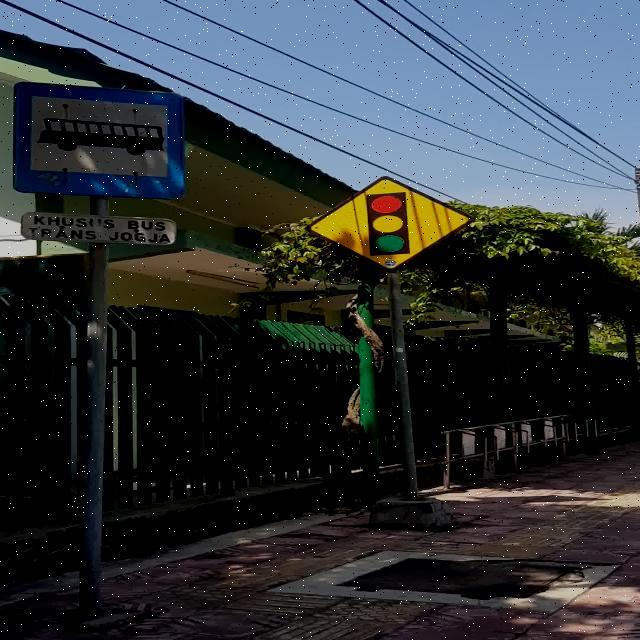Lampu Lalu Lintas: (306, 176, 474, 273)
